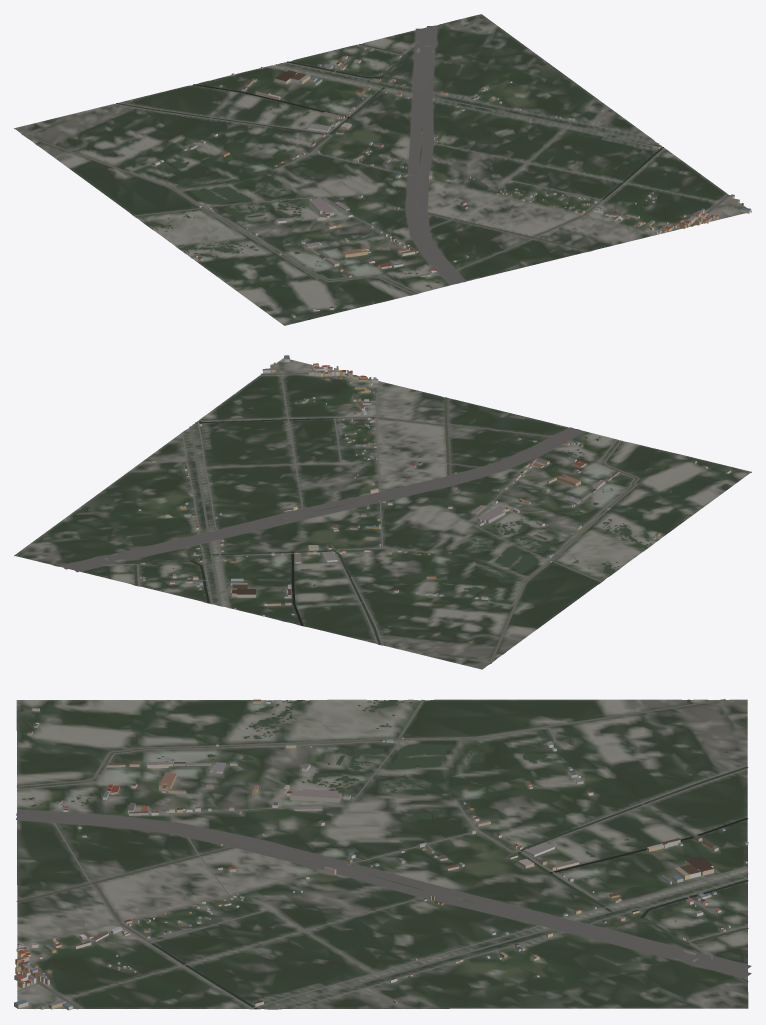
3 views of the same model, one above another, from view 1: azimuth 30°, elevation 25°; view 2: azimuth 150°, elevation 25°; view 3: azimuth 270°, elevation 25° (orthographic). The views are drawn at different scales.
Parts seen in each view (by area): view 1: ground, roads, water, buildings; view 2: ground, roads, water, buildings; view 3: ground, roads, water, buildings.
Part boxes in pixels (box(x1,y1,x2,y2)): ground: box(14, 14, 751, 325); roads: box(113, 26, 745, 293); water: box(21, 24, 663, 294); buildings: box(153, 47, 751, 317); ground: box(14, 358, 751, 669); roads: box(61, 362, 634, 645); water: box(55, 397, 657, 663); buildings: box(138, 355, 730, 616); ground: box(16, 699, 748, 1009); roads: box(16, 727, 751, 1009); water: box(16, 699, 748, 1009); buildings: box(14, 699, 748, 1010).
Bounding box in the file's own units: 1412 × 20.11 × 1416.
